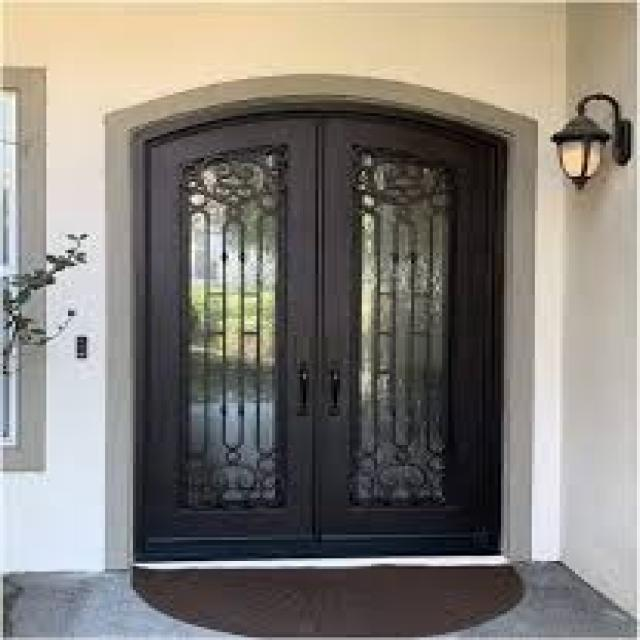door: (136, 107, 507, 558)
